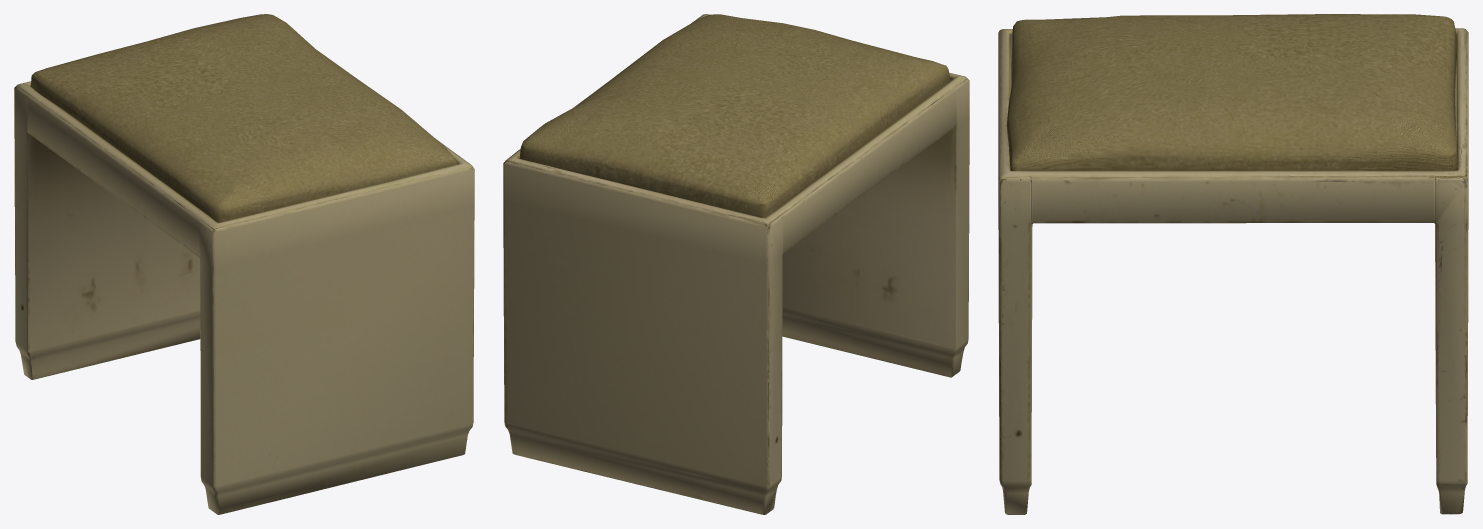
File: stool_wooden.glb
3 views of the same model, side by side, from view 1: azimuth 30°, elevation 25°; view 2: azimuth 150°, elevation 25°; view 3: azimuth 270°, elevation 25° (orthographic). The views are drawn at different scales.
Visible parts, largest first — view 1: tripo_node_e397dc82-4ccd-4e3a-930e-09719d2a00fa; view 2: tripo_node_e397dc82-4ccd-4e3a-930e-09719d2a00fa; view 3: tripo_node_e397dc82-4ccd-4e3a-930e-09719d2a00fa.
Part boxes in pixels (x1,y1,x2,y2): tripo_node_e397dc82-4ccd-4e3a-930e-09719d2a00fa: (14,14,474,514); tripo_node_e397dc82-4ccd-4e3a-930e-09719d2a00fa: (503,14,969,514); tripo_node_e397dc82-4ccd-4e3a-930e-09719d2a00fa: (998,14,1468,514).
Size of the model in its own units: 0.7598 by 0.9004 by 0.998.
1 material, 1 textured.
